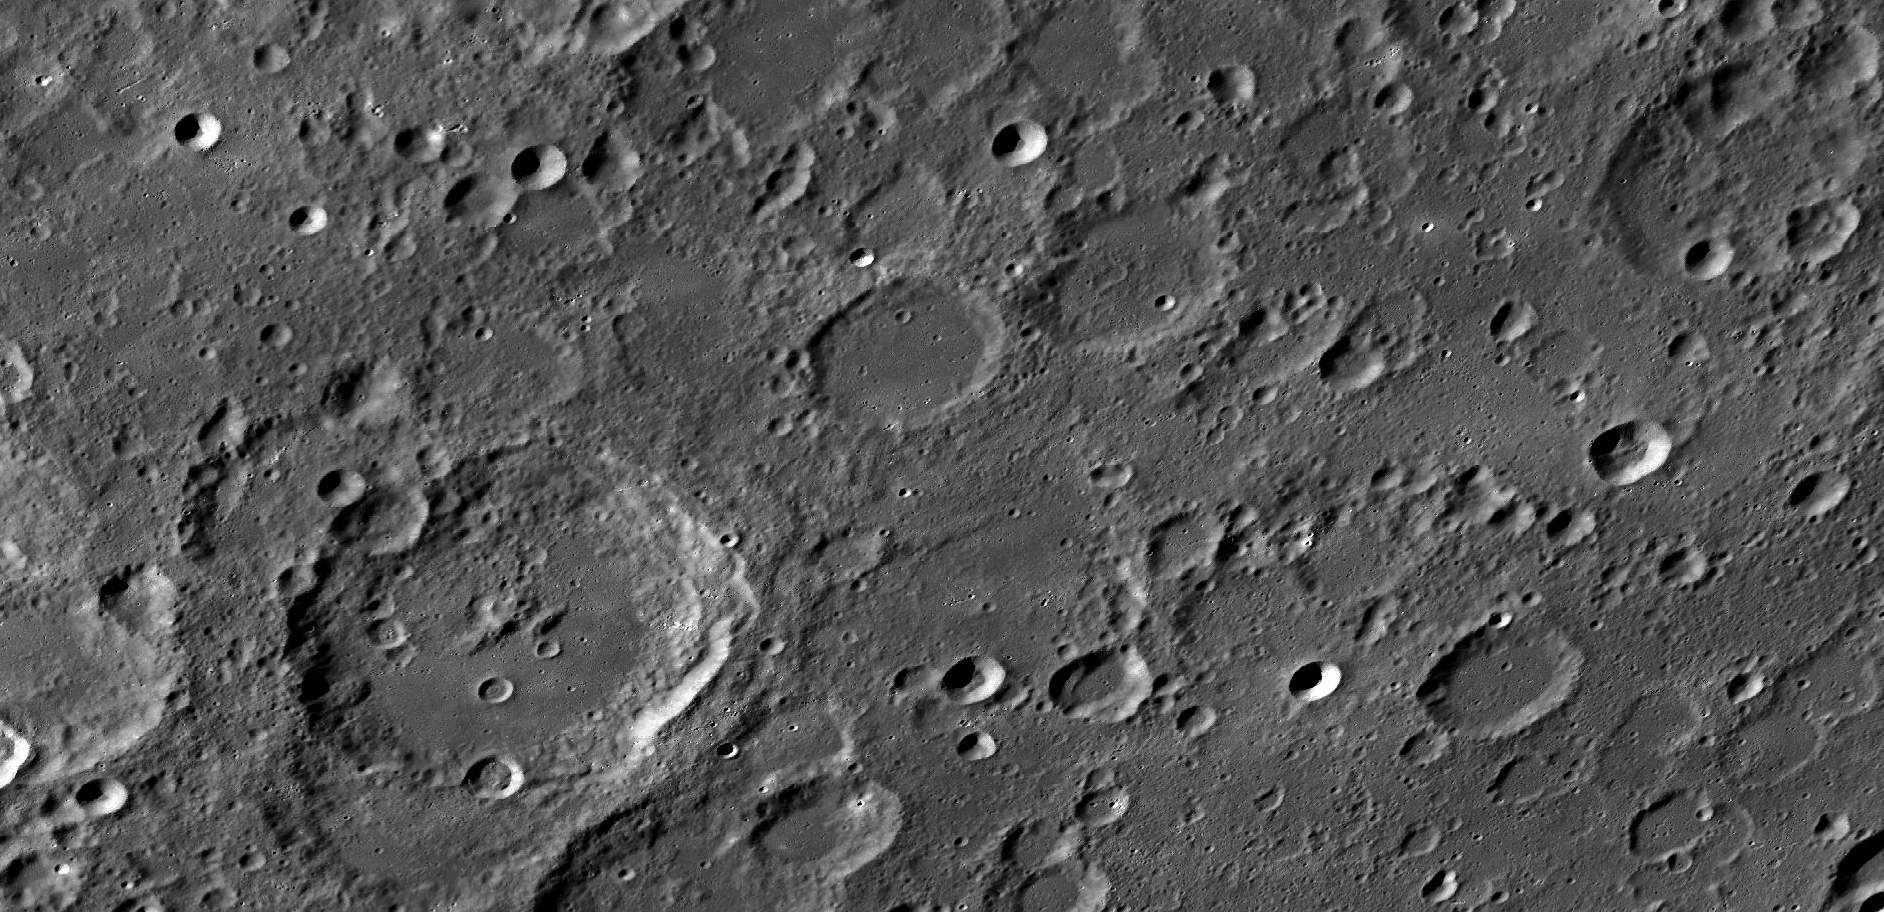crater: (261, 437, 758, 829), (1013, 180, 1253, 376), (779, 270, 1023, 448), (1406, 596, 1584, 756), (734, 759, 910, 888), (1712, 702, 1836, 813), (922, 618, 1025, 725), (1612, 781, 1728, 874), (1576, 410, 1686, 491), (1268, 640, 1365, 732), (142, 93, 250, 174), (431, 169, 527, 255), (1062, 774, 1135, 835)
